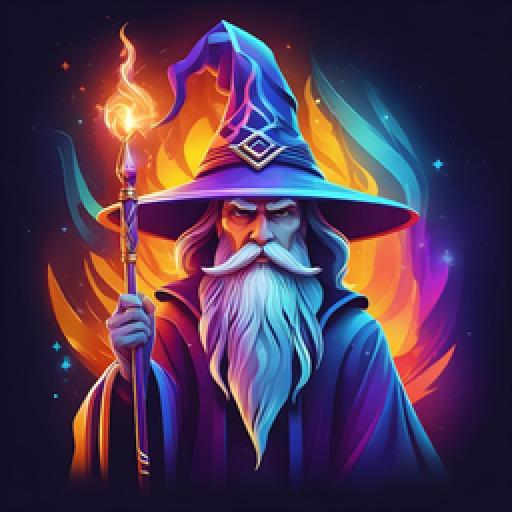wizards: (61, 12, 452, 486)
